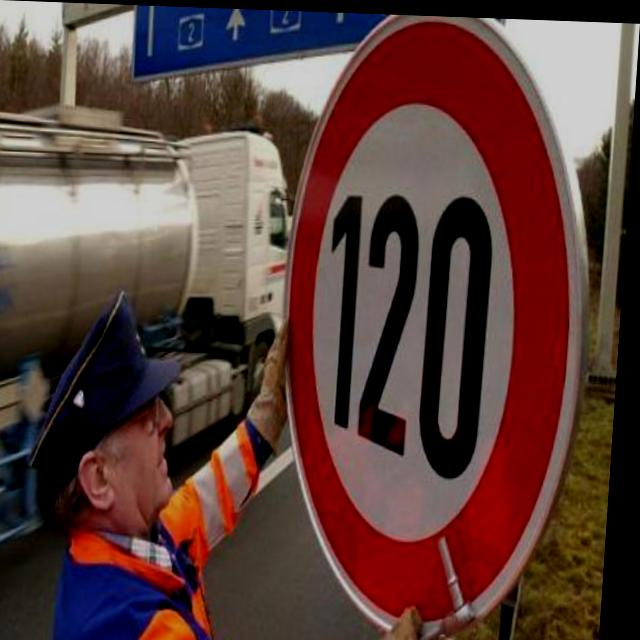limit120: (276, 9, 608, 640)
